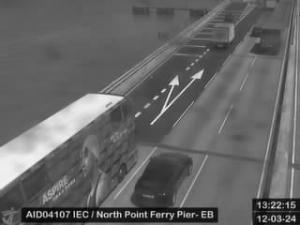bus: (1, 91, 141, 224)
truck: (262, 22, 284, 52), (211, 22, 235, 48)
vehicle: (131, 152, 193, 209), (254, 25, 262, 37)
